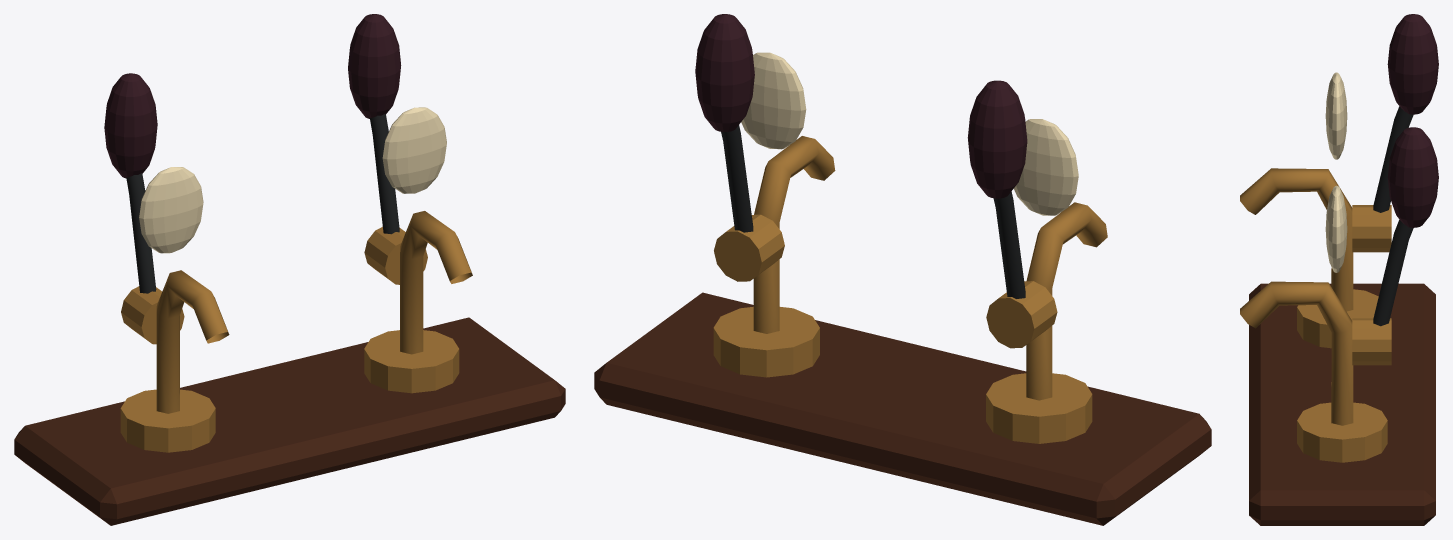
File: TwinBeerPump.glb
The picture shows the model from 3 angles, left to right: view 1: azimuth 30°, elevation 25°; view 2: azimuth 150°, elevation 25°; view 3: azimuth 270°, elevation 25°; orthographic projection. The views are drawn at different scales.
Parts seen in each view (by area): view 1: OakPumpPlinth, PumpNeck, PumpNeck.001, BrassCollar, BrassCollar.001, BurgundyPullHandle, BurgundyPullHandle.001, IvoryPumpBadge, IvoryPumpBadge.001, PullLever, PullLever.001, HandlePivot (+1 smaller); view 2: OakPumpPlinth, BrassCollar, BrassCollar.001, BurgundyPullHandle, BurgundyPullHandle.001, PumpNeck, PumpNeck.001, IvoryPumpBadge.001, IvoryPumpBadge, HandlePivot, HandlePivot.001, PullLever (+1 smaller); view 3: OakPumpPlinth, PumpNeck.001, BrassCollar.001, BurgundyPullHandle, BurgundyPullHandle.001, PumpNeck, BrassCollar, HandlePivot.001, HandlePivot, PullLever.001, IvoryPumpBadge.001, IvoryPumpBadge (+1 smaller).
Part boxes in pixels (bbox=[...]): OakPumpPlinth: bbox=[14, 317, 565, 525]; PumpNeck: bbox=[156, 270, 229, 413]; PumpNeck.001: bbox=[400, 211, 472, 354]; BrassCollar: bbox=[120, 389, 215, 452]; BrassCollar.001: bbox=[364, 330, 459, 393]; BurgundyPullHandle: bbox=[104, 73, 157, 178]; BurgundyPullHandle.001: bbox=[348, 14, 401, 118]; IvoryPumpBadge: bbox=[139, 167, 203, 253]; IvoryPumpBadge.001: bbox=[382, 107, 446, 193]; PullLever: bbox=[126, 173, 156, 293]; PullLever.001: bbox=[370, 114, 399, 234]; HandlePivot: bbox=[121, 286, 184, 344]; OakPumpPlinth: bbox=[594, 292, 1211, 525]; BrassCollar: bbox=[986, 373, 1092, 443]; BrassCollar.001: bbox=[713, 306, 819, 377]; BurgundyPullHandle: bbox=[967, 80, 1027, 198]; BurgundyPullHandle.001: bbox=[695, 14, 754, 131]; PumpNeck: bbox=[1026, 202, 1107, 400]; PumpNeck.001: bbox=[753, 136, 835, 333]; IvoryPumpBadge.001: bbox=[741, 52, 806, 149]; IvoryPumpBadge: bbox=[1013, 119, 1078, 215]; HandlePivot: bbox=[986, 281, 1057, 348]; HandlePivot.001: bbox=[714, 214, 784, 281]; PullLever: bbox=[993, 191, 1025, 298]; OakPumpPlinth: bbox=[1249, 283, 1435, 525]; PumpNeck.001: bbox=[1240, 281, 1353, 425]; BrassCollar.001: bbox=[1297, 402, 1387, 462]; BurgundyPullHandle: bbox=[1387, 14, 1438, 114]; BurgundyPullHandle.001: bbox=[1387, 127, 1438, 227]; PumpNeck: bbox=[1240, 168, 1353, 311]; BrassCollar: bbox=[1297, 289, 1378, 348]; HandlePivot.001: bbox=[1352, 318, 1391, 365]; HandlePivot: bbox=[1352, 205, 1391, 252]; PullLever.001: bbox=[1373, 219, 1413, 326]; IvoryPumpBadge.001: bbox=[1325, 185, 1347, 272]; IvoryPumpBadge: bbox=[1325, 72, 1347, 159].
Bounding box in the file's own units: 2.6 × 1.97 × 1.01.
